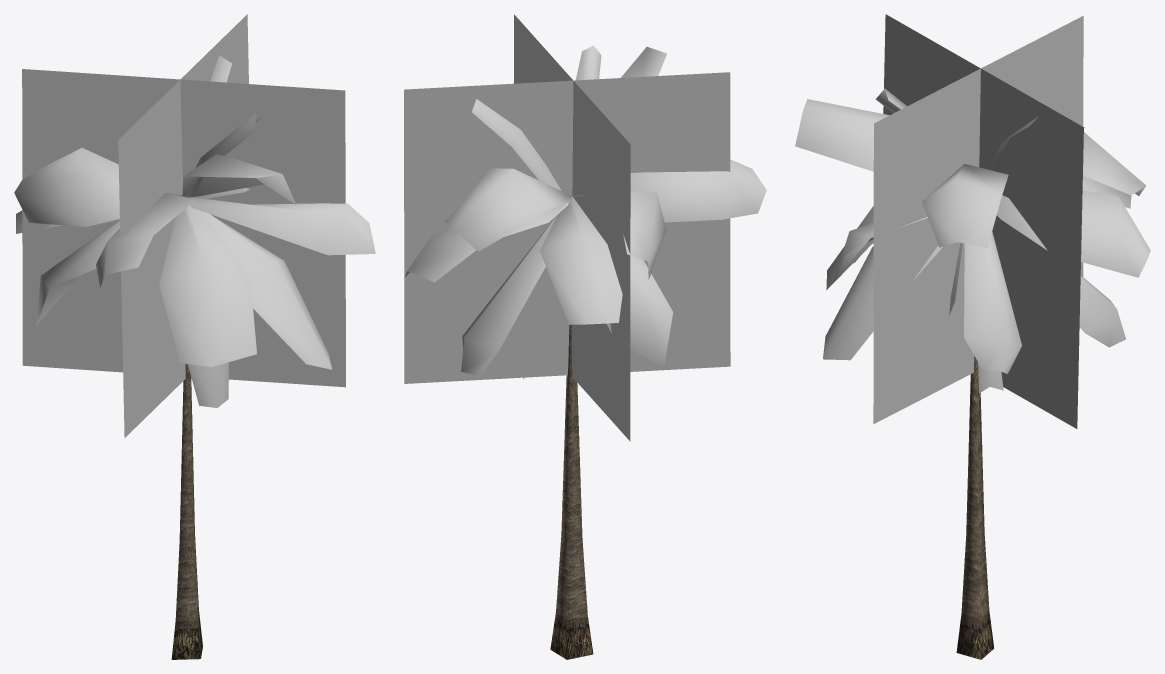
File: nature_palm_generic_lod01.FBX
3 renders of one model, left to right at view 1: azimuth 30°, elevation 25°; view 2: azimuth 150°, elevation 25°; view 3: azimuth 270°, elevation 25°, orthographic.
Visible parts, largest first — view 1: nature_palm_generic_leaves_lod01, nature_palm_generic_bark_lod01; view 2: nature_palm_generic_leaves_lod01, nature_palm_generic_bark_lod01; view 3: nature_palm_generic_leaves_lod01, nature_palm_generic_bark_lod01.
Boxes of the visible parts, x1,y1,x2,y2 form: nature_palm_generic_leaves_lod01: [14, 14, 375, 437]; nature_palm_generic_bark_lod01: [171, 363, 202, 659]; nature_palm_generic_leaves_lod01: [404, 14, 766, 441]; nature_palm_generic_bark_lod01: [550, 324, 593, 659]; nature_palm_generic_leaves_lod01: [795, 14, 1150, 428]; nature_palm_generic_bark_lod01: [956, 356, 994, 659].
Size of the model in its own units: 1347 by 2572 by 1429.
